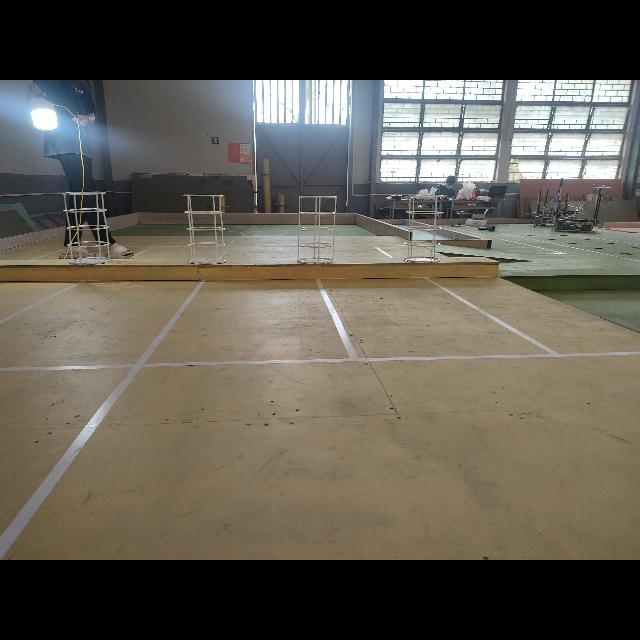S: (61, 186, 118, 268), (182, 190, 230, 268), (297, 188, 341, 268), (402, 194, 442, 264)
